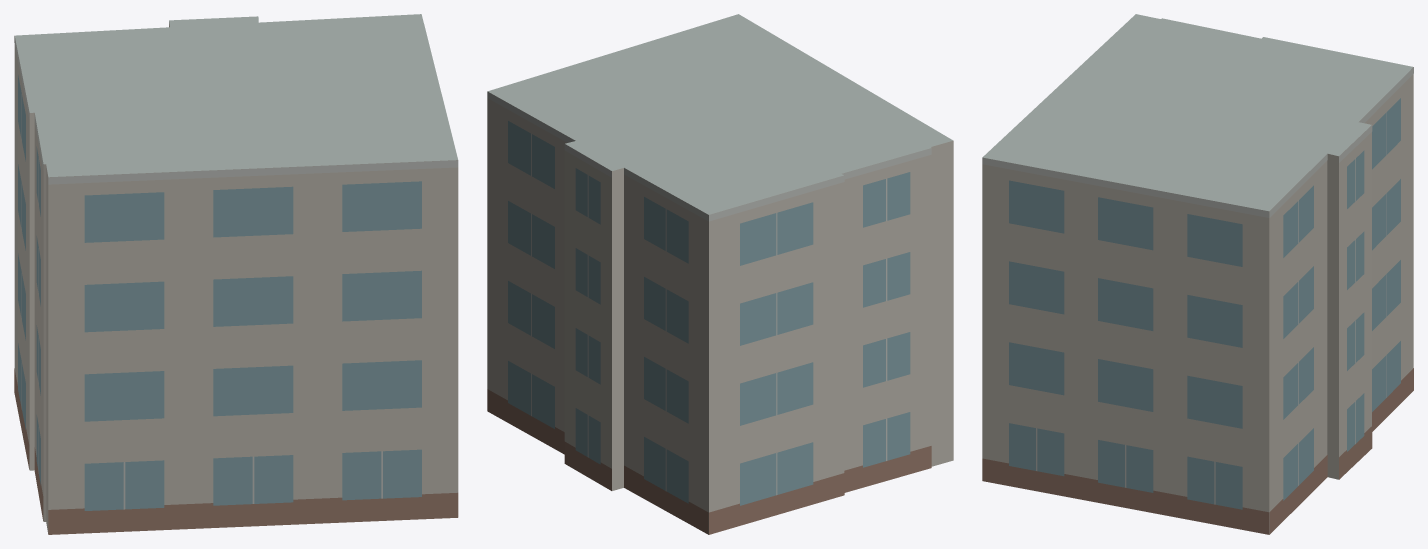
The model's file is survey-upis-32658491.glb.
3 views of the same model, side by side, from view 1: azimuth 30°, elevation 25°; view 2: azimuth 150°, elevation 25°; view 3: azimuth 270°, elevation 25° (orthographic). The views are drawn at different scales.
Visible parts, largest first — view 1: survey-upis-32658491.tmp; view 2: survey-upis-32658491.tmp; view 3: survey-upis-32658491.tmp.
Part boxes in pixels (bbox=[...]): survey-upis-32658491.tmp: bbox=[14, 14, 458, 534]; survey-upis-32658491.tmp: bbox=[487, 14, 953, 534]; survey-upis-32658491.tmp: bbox=[982, 14, 1413, 534].
Bounding box in the file's own units: 15.38 × 11.75 × 14.21.
